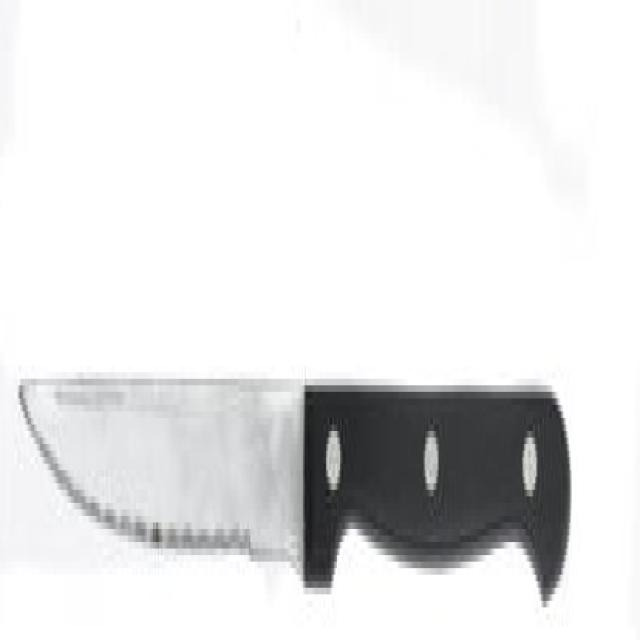knife: (14, 333, 582, 640)
